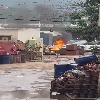fire: (50, 39, 63, 50)
